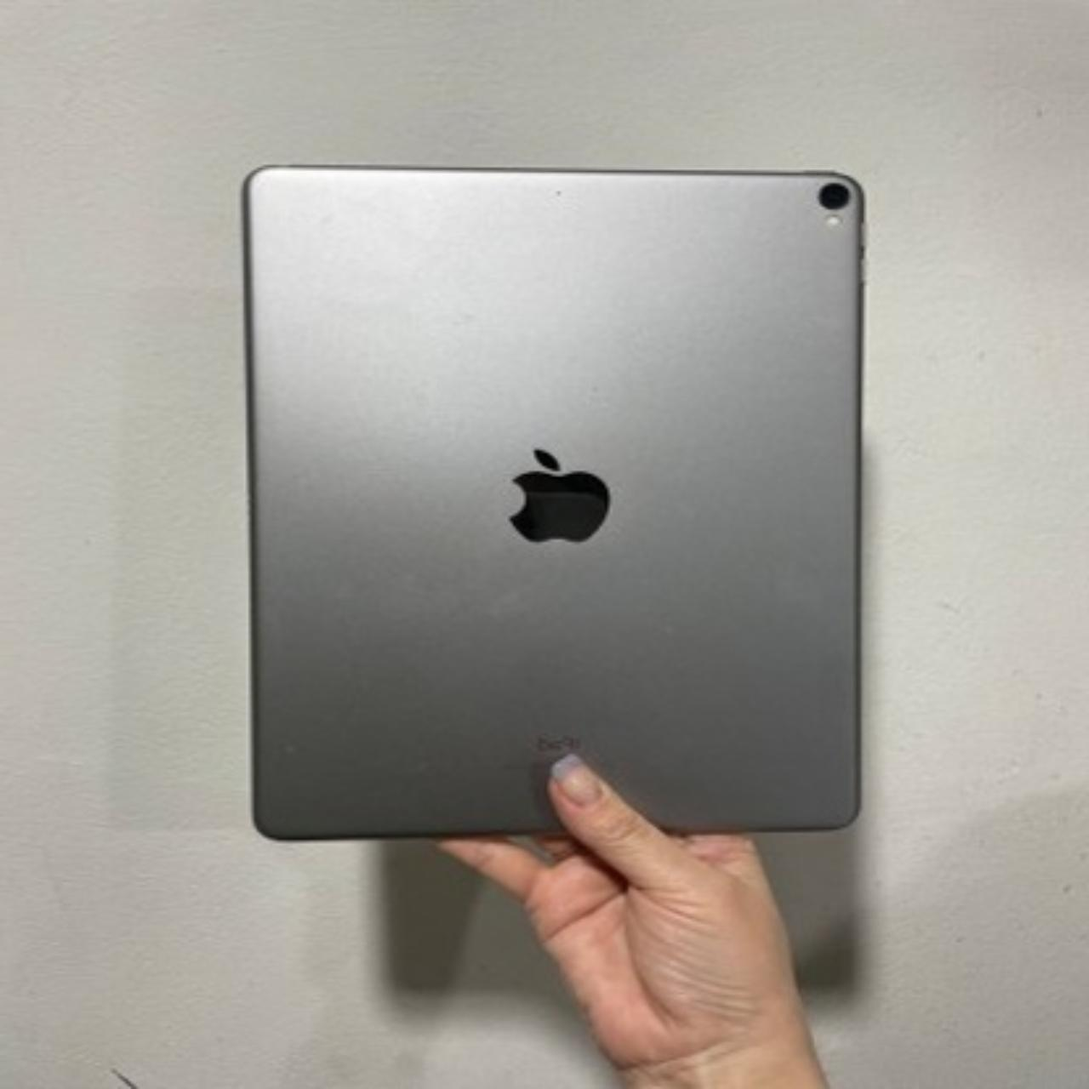Tablet_PC: (215, 147, 877, 855)
